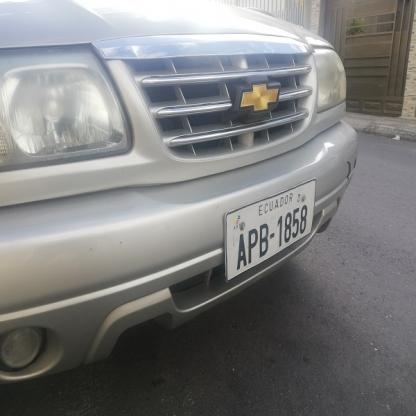Placa: (211, 182, 328, 272)
